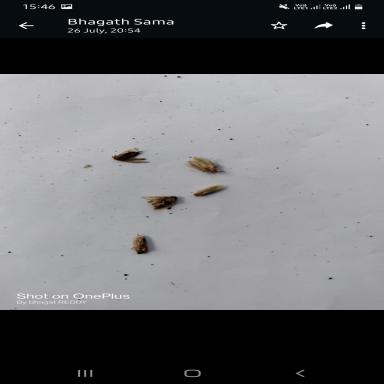pbw: (185, 156, 224, 174), (139, 195, 179, 210), (112, 147, 149, 163), (192, 184, 224, 196), (130, 233, 146, 254)
